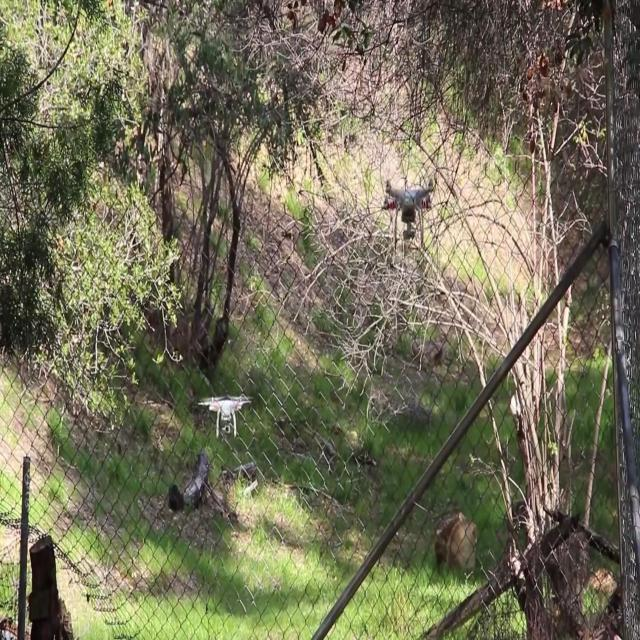drone: (382, 173, 438, 243), (193, 391, 252, 439)
